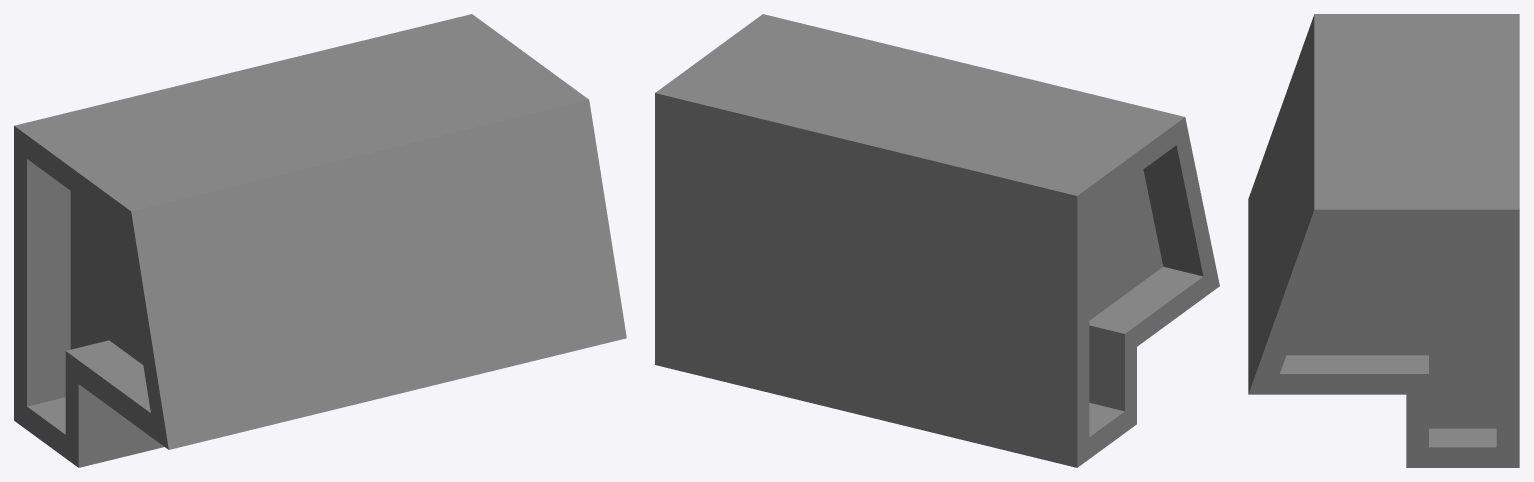
File: SM_metal_support_09.fbx
3 renders of one model, left to right at view 1: azimuth 30°, elevation 25°; view 2: azimuth 150°, elevation 25°; view 3: azimuth 270°, elevation 25°, orthographic. The views are drawn at different scales.
Visible parts, largest first — view 1: metal_support_09; view 2: metal_support_09; view 3: metal_support_09.
Part boxes in pixels (x1=…): metal_support_09: x1=14, y1=14, x2=626, y2=467; metal_support_09: x1=655, y1=14, x2=1219, y2=467; metal_support_09: x1=1248, y1=14, x2=1519, y2=467.
Bounding box in the file's own units: 54.72 × 33.67 × 32.02.
